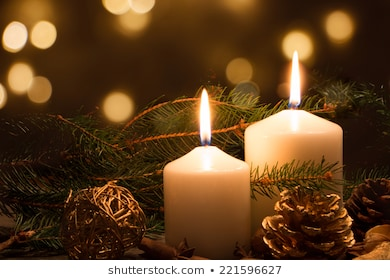Fire: (102, 91, 135, 121), (198, 88, 214, 143), (2, 20, 28, 52), (288, 52, 304, 103), (32, 21, 59, 49), (8, 62, 32, 93)
